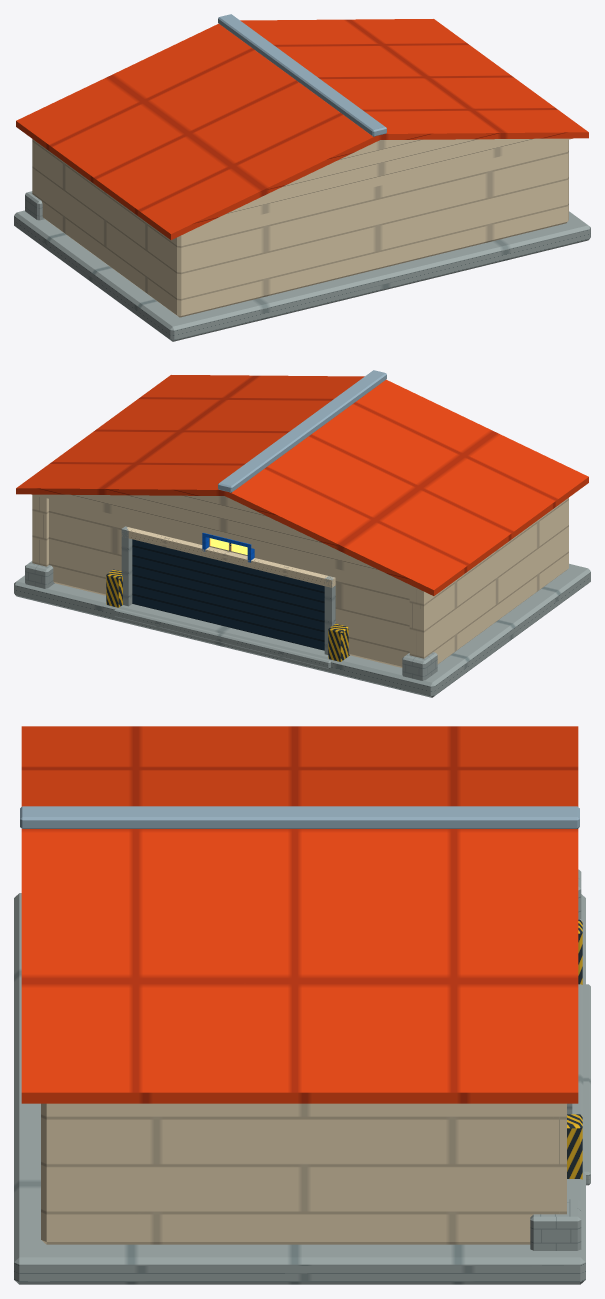
Rendered from bld-harbor-warehouse-coral-3x2.glb.
3 views of the same model, one above another, from view 1: azimuth 30°, elevation 25°; view 2: azimuth 150°, elevation 25°; view 3: azimuth 270°, elevation 25° (orthographic). The views are drawn at different scales.
Visible parts, largest first — view 1: bld-harbor-warehouse-coral-3x2; view 2: bld-harbor-warehouse-coral-3x2; view 3: bld-harbor-warehouse-coral-3x2.
Boxes of the visible parts, x1,y1,x2,y2 form: bld-harbor-warehouse-coral-3x2: (14, 14, 590, 341); bld-harbor-warehouse-coral-3x2: (14, 370, 590, 697); bld-harbor-warehouse-coral-3x2: (14, 726, 590, 1284).
Bounding box in the file's own units: 2.9 × 1.07 × 1.92.
Materials: 1 (1 with a texture image).
